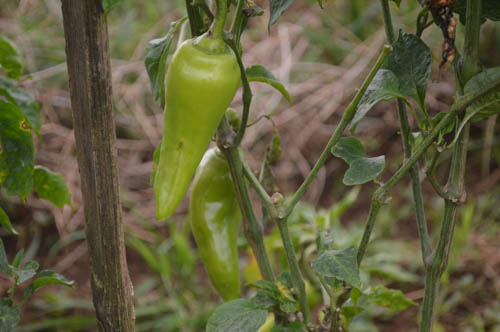ChiliPepper: (151, 41, 237, 231), (188, 152, 245, 303)
